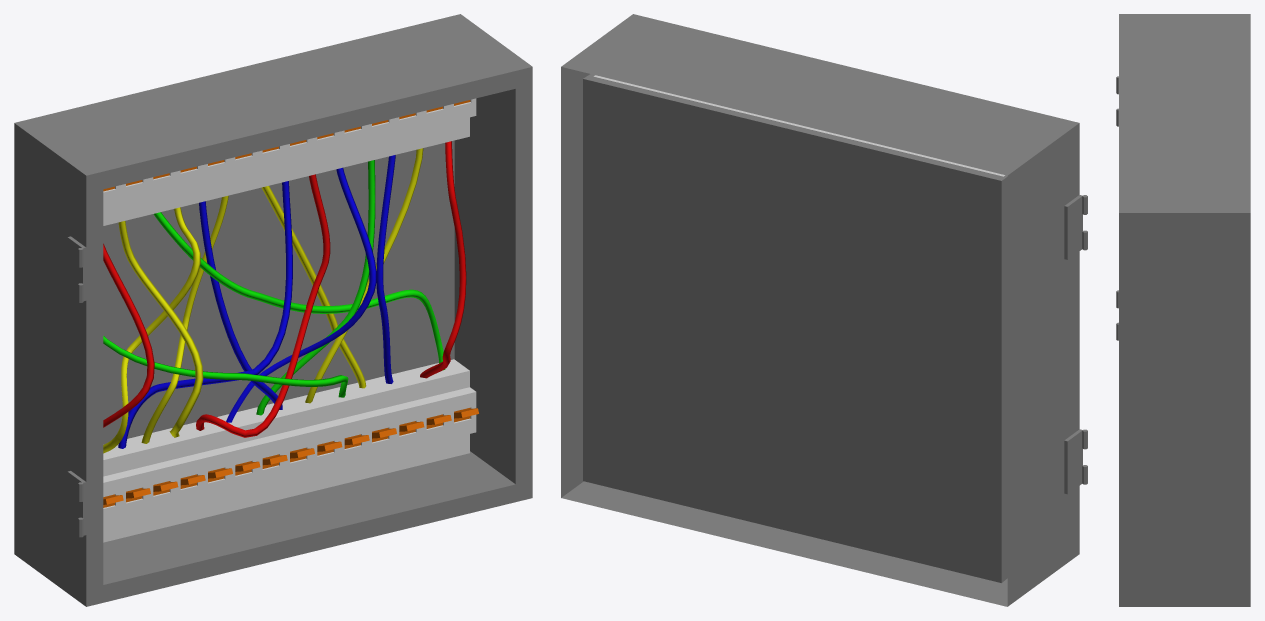
File: Electro.fbx
The picture shows the model from 3 angles, left to right: view 1: azimuth 30°, elevation 25°; view 2: azimuth 150°, elevation 25°; view 3: azimuth 270°, elevation 25°; orthographic projection. The views are drawn at different scales.
Parts seen in each view (by area): view 1: Electro; view 2: Electro; view 3: Electro.
Part boxes in pixels (x1=…): Electro: x1=14, y1=14, x2=532, y2=606; Electro: x1=561, y1=14, x2=1087, y2=606; Electro: x1=1116, y1=14, x2=1250, y2=606.
Size of the model in its own units: 1.32 by 1.2 by 0.3707.
